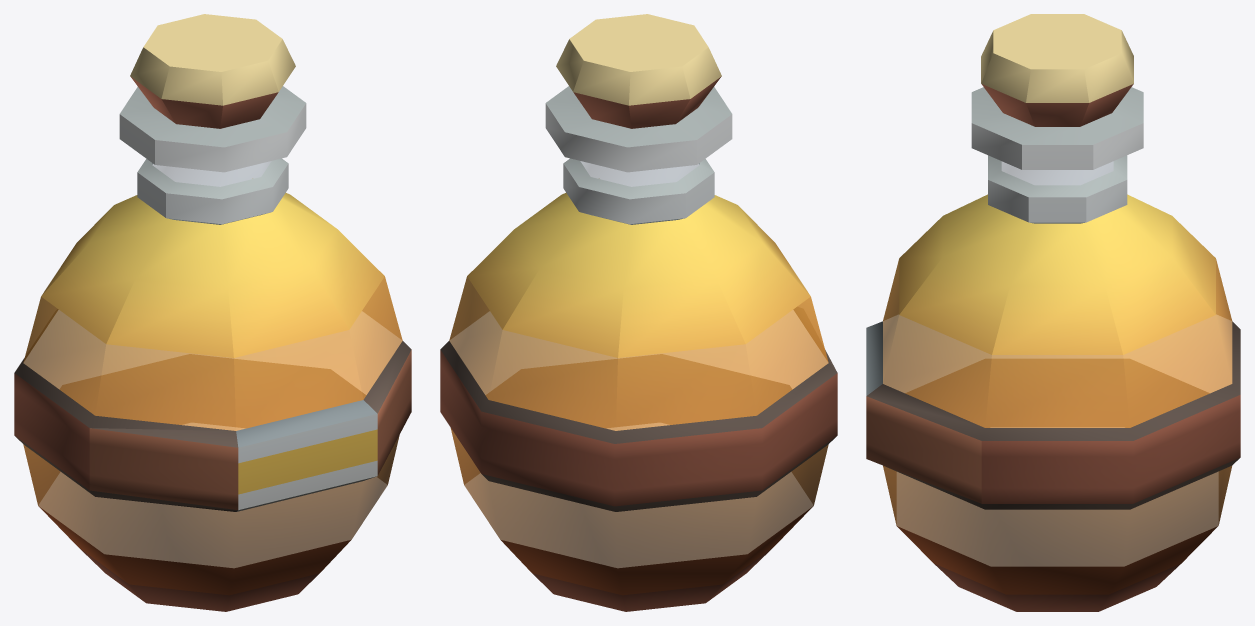
The model's file is potion_large_orange.glb.
3 views of the same model, side by side, from view 1: azimuth 30°, elevation 25°; view 2: azimuth 150°, elevation 25°; view 3: azimuth 270°, elevation 25° (orthographic).
Visible parts, largest first — view 1: Item; view 2: Item; view 3: Item.
Boxes of the visible parts, x1,y1,x2,y2 form: Item: (14, 14, 411, 611); Item: (440, 14, 837, 611); Item: (866, 14, 1240, 611).
Bounding box in the file's own units: 0.72 × 1.12 × 0.72.
Materials: 5 (5 with a texture image).
